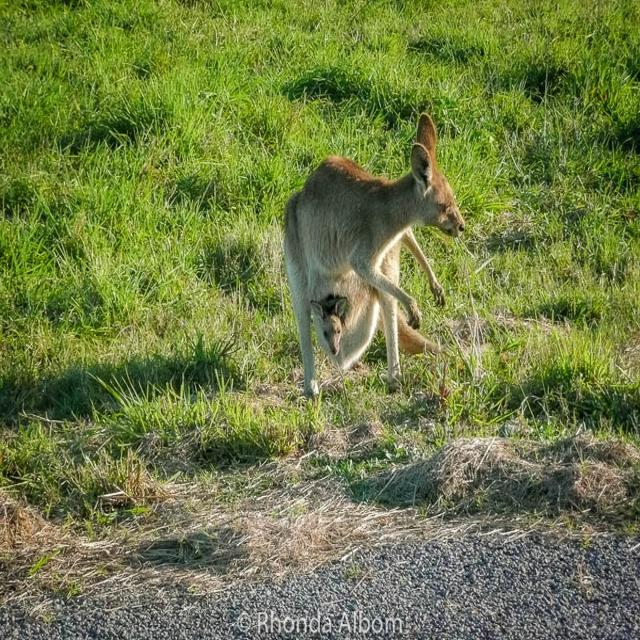kangaroo: (290, 112, 464, 390)
